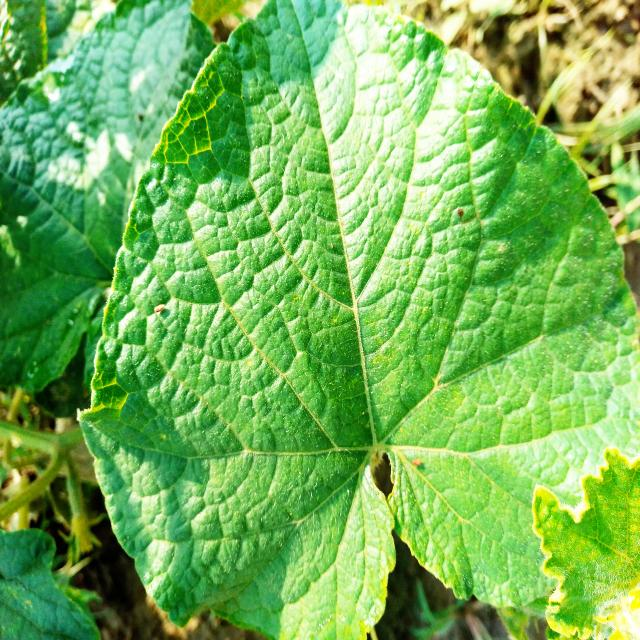Fresh-Leaf: (75, 0, 638, 640)
